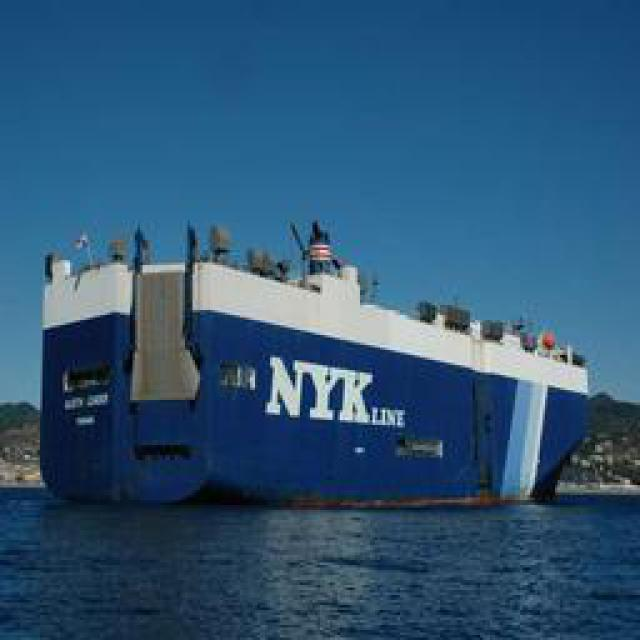Ship: (39, 213, 602, 508)
